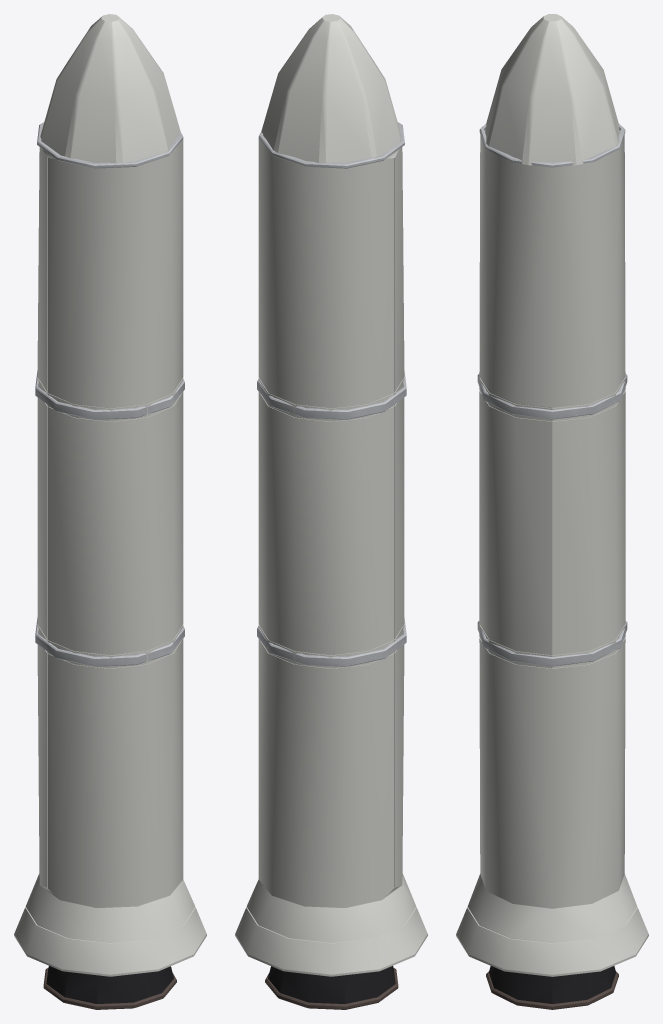
File: ax_prop_13_segmented_srb_m.glb
3 renders of one model, left to right at view 1: azimuth 30°, elevation 25°; view 2: azimuth 150°, elevation 25°; view 3: azimuth 270°, elevation 25°, orthographic.
Visible parts, largest first — view 1: motor_case, nose_cap, aft_skirt, nozzle, field_joints, forward_ring, nozzle_lip; view 2: motor_case, nose_cap, aft_skirt, nozzle, field_joints, forward_ring, nozzle_lip; view 3: motor_case, nose_cap, aft_skirt, nozzle, field_joints, nozzle_lip, forward_ring.
Boxes of the visible parts, <box> form: motor_case: <box>37,139,183,907</box>; nose_cap: <box>40,14,180,163</box>; aft_skirt: <box>14,874,206,976</box>; nozzle: <box>46,966,173,1003</box>; field_joints: <box>35,370,184,666</box>; forward_ring: <box>37,122,183,168</box>; nozzle_lip: <box>43,968,176,1009</box>; motor_case: <box>258,139,404,907</box>; nose_cap: <box>261,14,401,163</box>; aft_skirt: <box>235,874,427,976</box>; nozzle: <box>268,966,395,1003</box>; field_joints: <box>257,370,406,666</box>; forward_ring: <box>258,122,404,168</box>; nozzle_lip: <box>265,968,398,1009</box>; motor_case: <box>479,131,625,908</box>; nose_cap: <box>485,14,619,165</box>; aft_skirt: <box>456,874,648,976</box>; nozzle: <box>489,966,615,1003</box>; field_joints: <box>477,374,627,666</box>; nozzle_lip: <box>486,971,618,1009</box>; forward_ring: <box>479,123,625,167</box>.
Size of the model in its own units: 3.3 by 18.23 by 3.3.
Materials: 4 (2 with a texture image).
